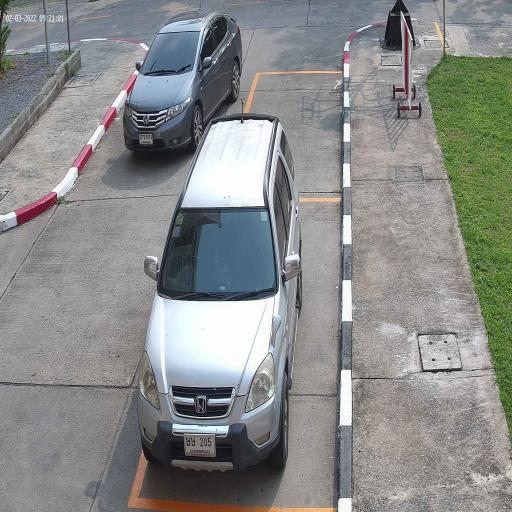car: (138, 116, 302, 475), (123, 13, 243, 153)
